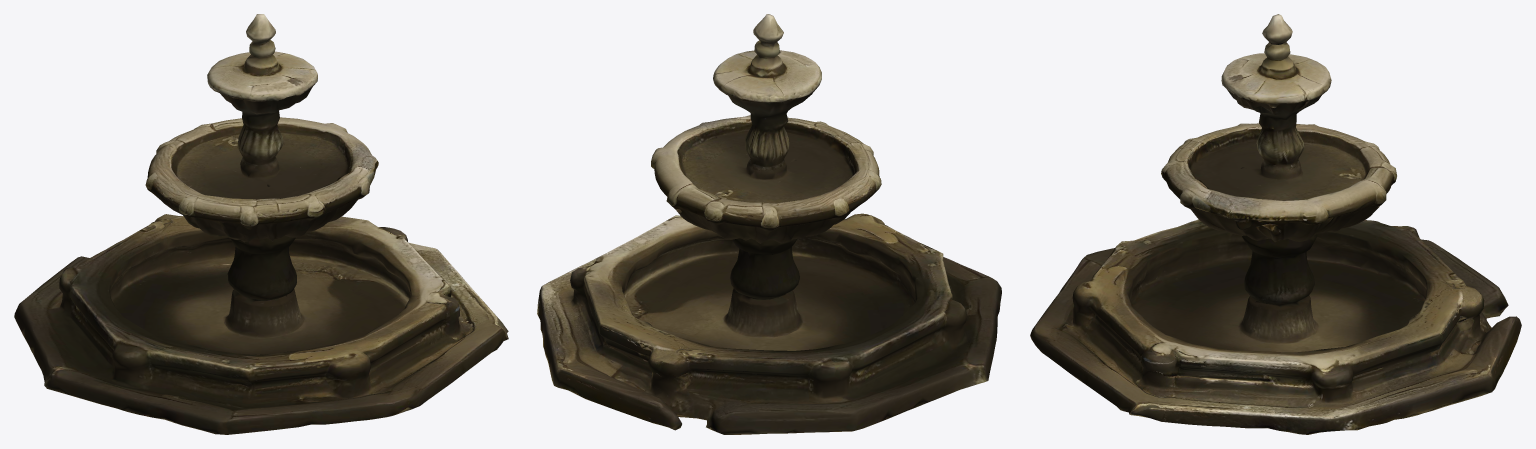
The model's file is font2.fbx.
3 renders of one model, left to right at view 1: azimuth 30°, elevation 25°; view 2: azimuth 150°, elevation 25°; view 3: azimuth 270°, elevation 25°, orthographic.
Visible parts, largest first — view 1: tripo_node_918e312b; view 2: tripo_node_918e312b; view 3: tripo_node_918e312b.
Part boxes in pixels (x1,y1,x2,y2): tripo_node_918e312b: (14,14,508,434); tripo_node_918e312b: (537,14,1001,434); tripo_node_918e312b: (1030,14,1521,434).
Size of the model in its own units: 1 by 0.728 by 1.
Materials: 1 (1 with a texture image).
